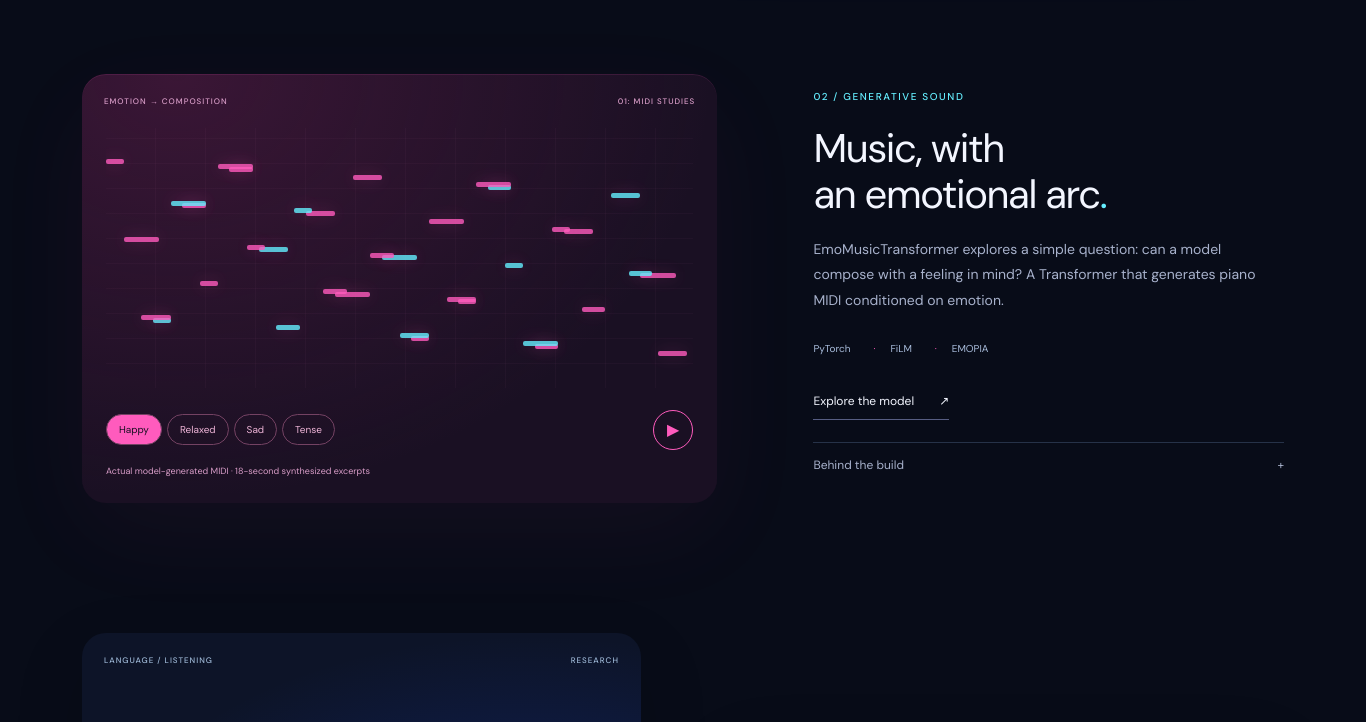
Test case: audio is opt-in, emotion changes stop playback, and private projects have no links
(page scrolled)
Click the button named "Play Happy sample". click: click(673, 430)
box: [653,410,693,450]
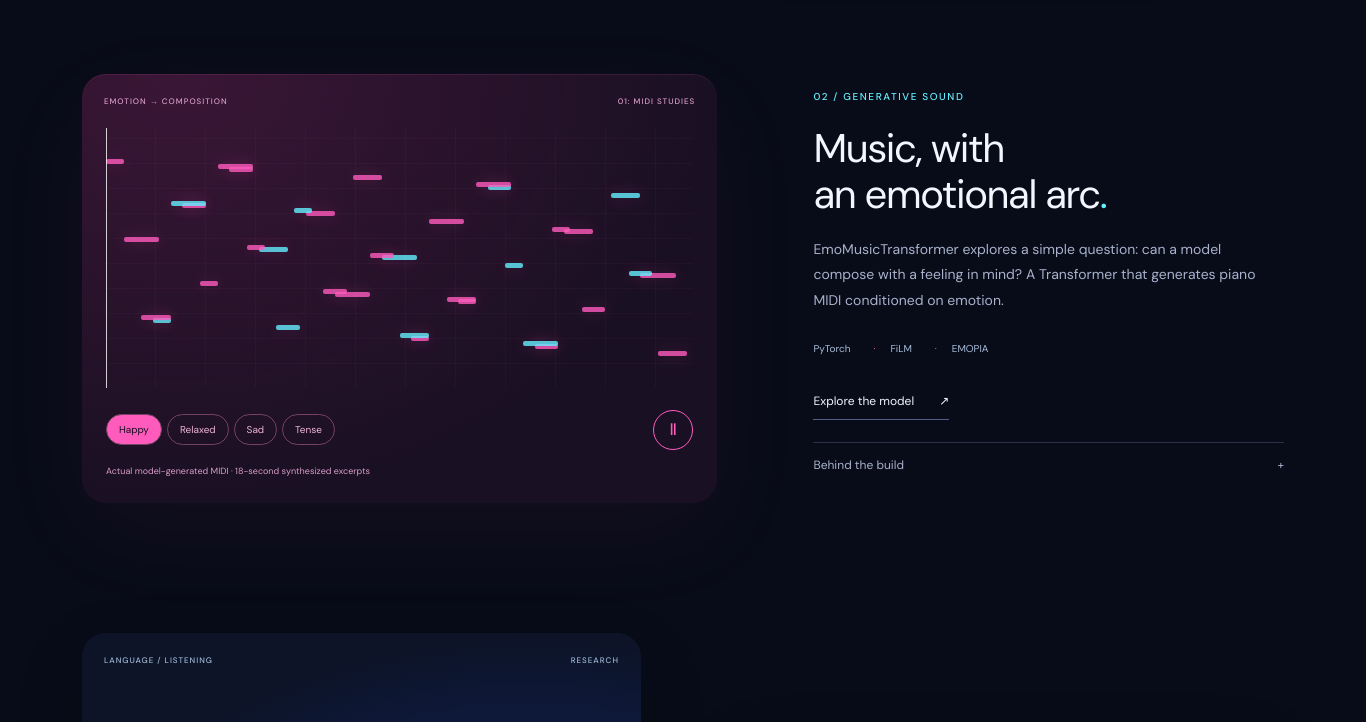
Now the button named "Pause Happy sample" is shown, box [653,410,693,450]
Click the button "Sad". click: click(255, 430)
box: [234,414,277,445]
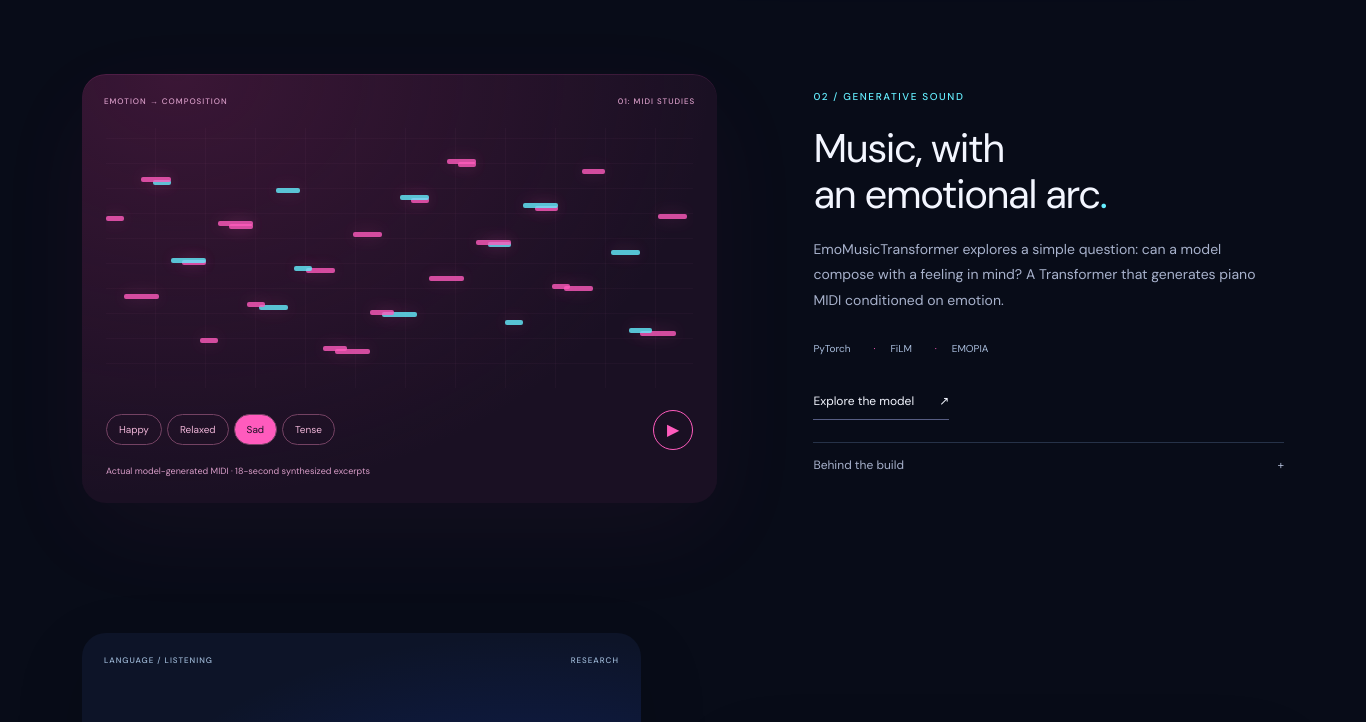
Now the button named "Play Sad sample" is shown, box [653,410,693,450]
